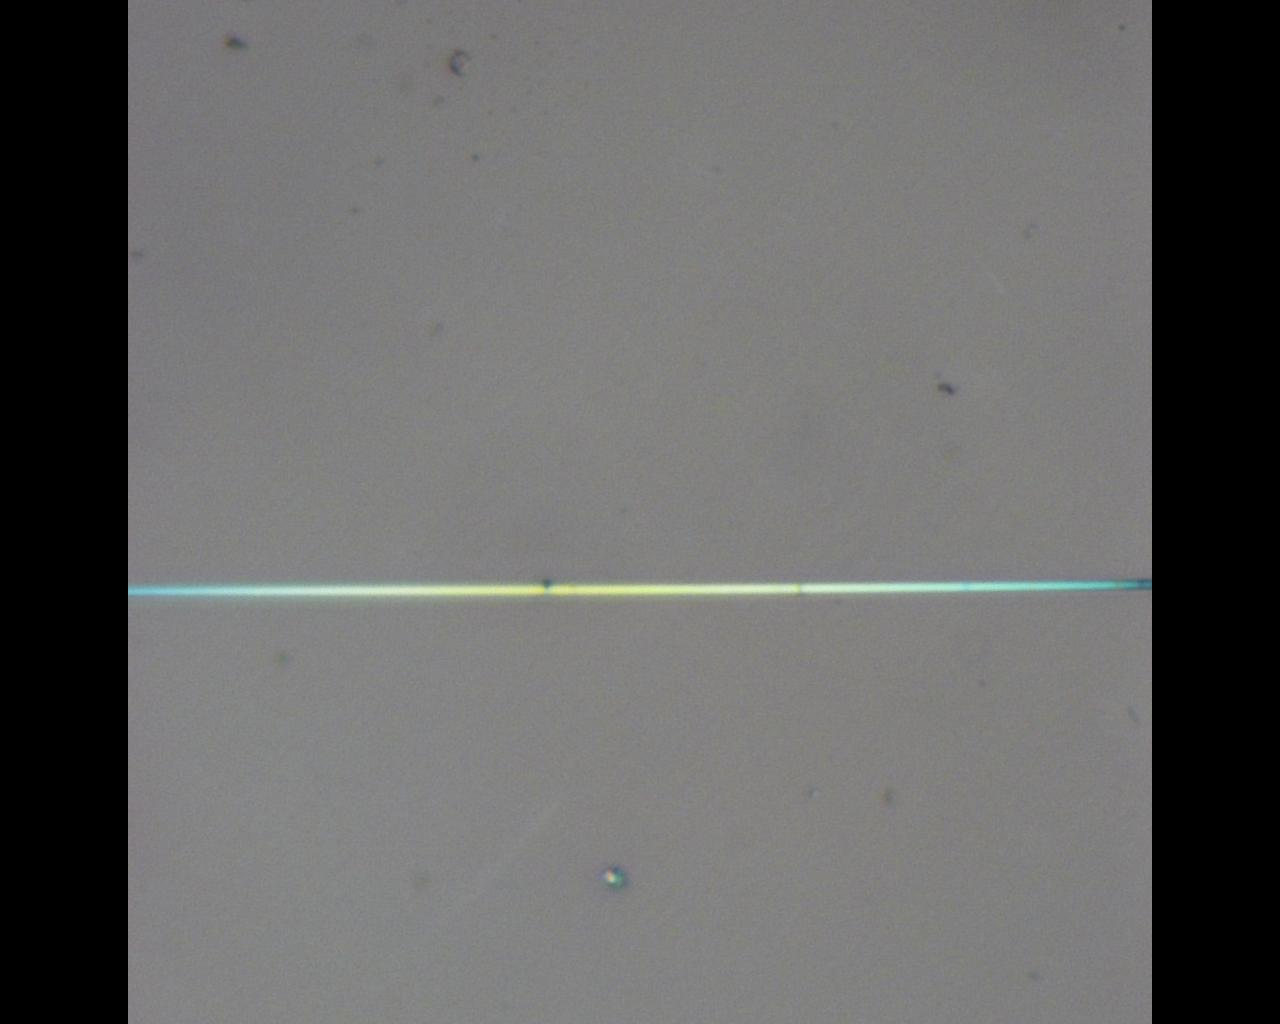fiber: (127, 577, 1151, 598)
